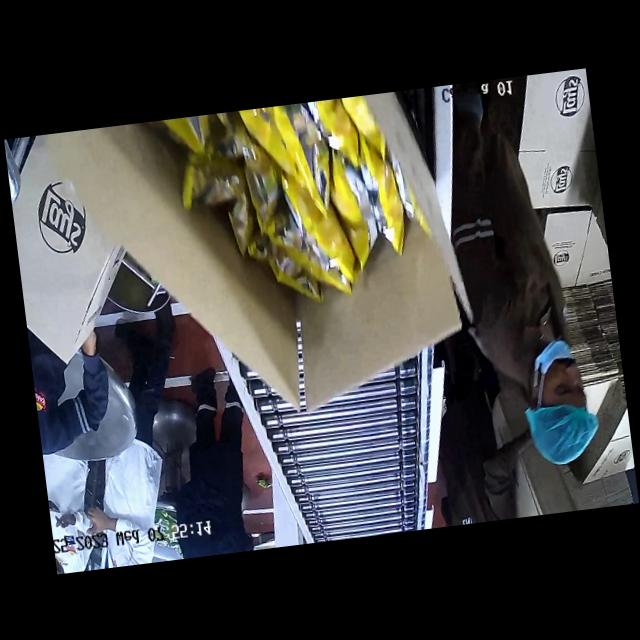salted: (214, 96, 372, 312)
